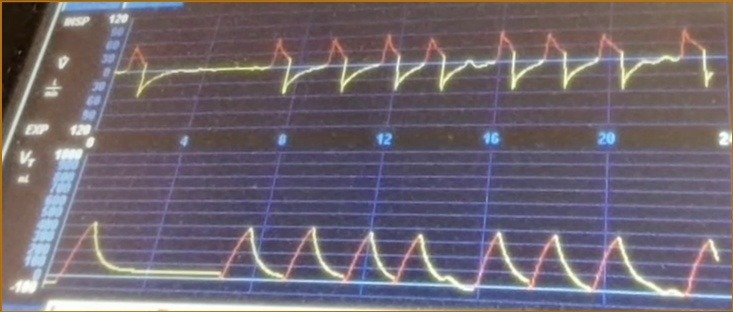Ineffective_effort Flow: (121, 26, 717, 117)
Ineffective_effort Volume: (50, 216, 719, 300)
